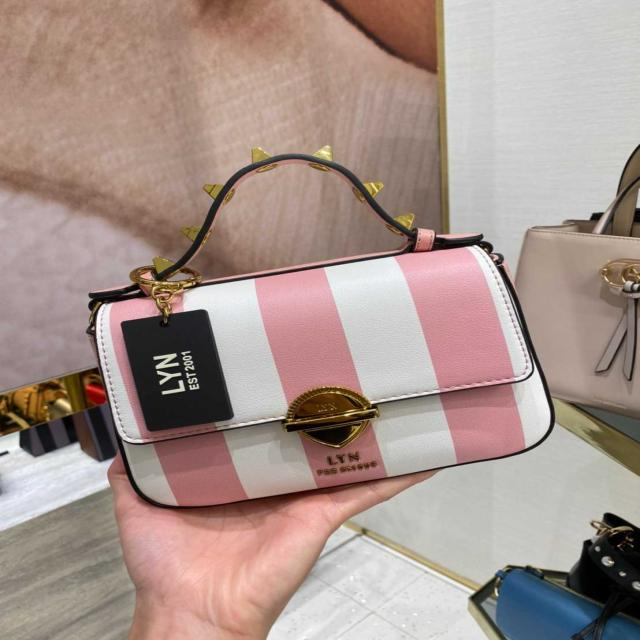handbag: (87, 220, 555, 520)
